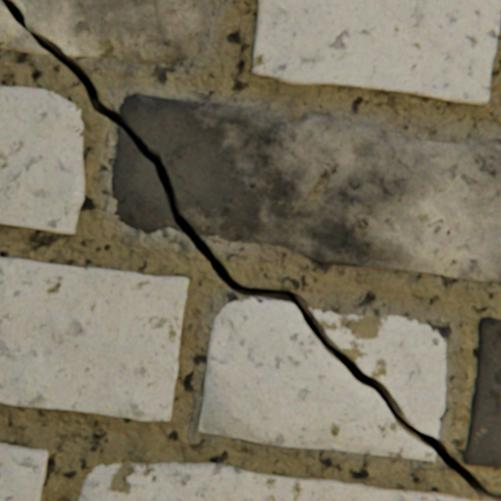brick: (0, 257, 188, 420), (251, 0, 500, 105), (79, 461, 487, 500), (0, 86, 85, 234), (461, 317, 500, 467), (0, 442, 48, 500)
broken_brick: (120, 95, 500, 284), (198, 297, 434, 460), (308, 307, 445, 437), (11, 0, 212, 65), (112, 126, 183, 233), (0, 0, 49, 55)
crack: (2, 0, 500, 500)
